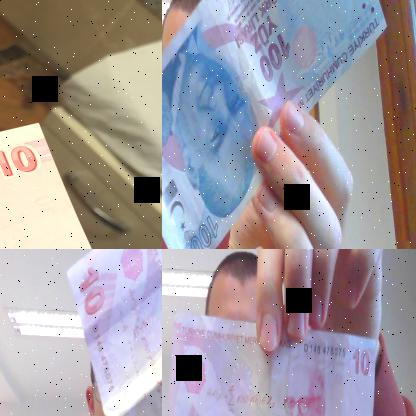5 TL: (0, 122, 120, 248)
